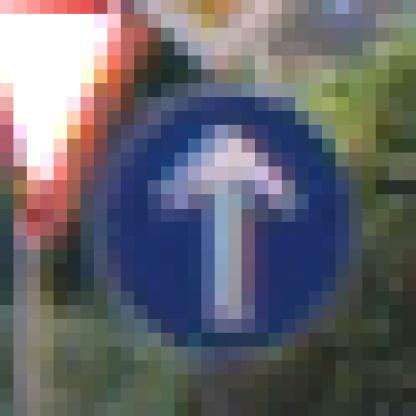AheadOnly: (82, 84, 337, 348)
